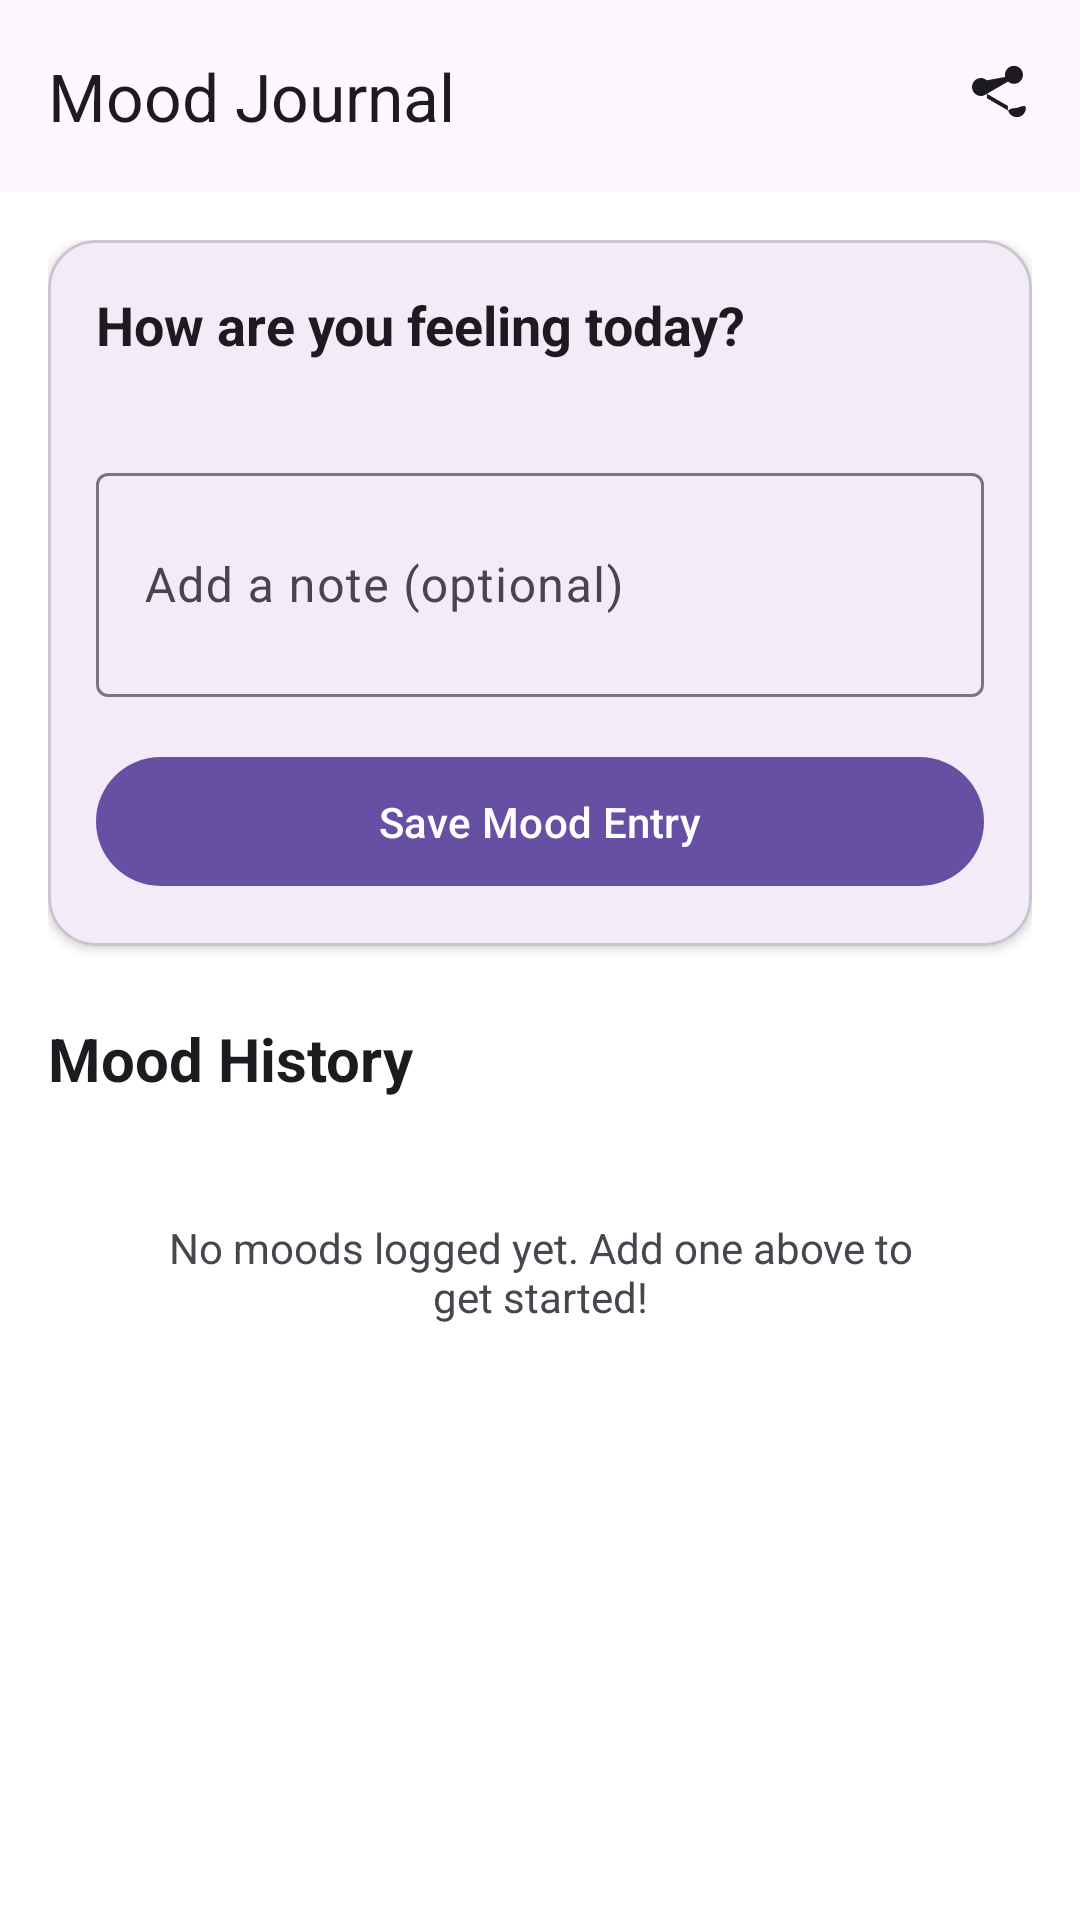

Point at icon controls on the screen. Image size 1080px×1920px, points as point (x, y).
Share Latest Mood: point (999, 92)
